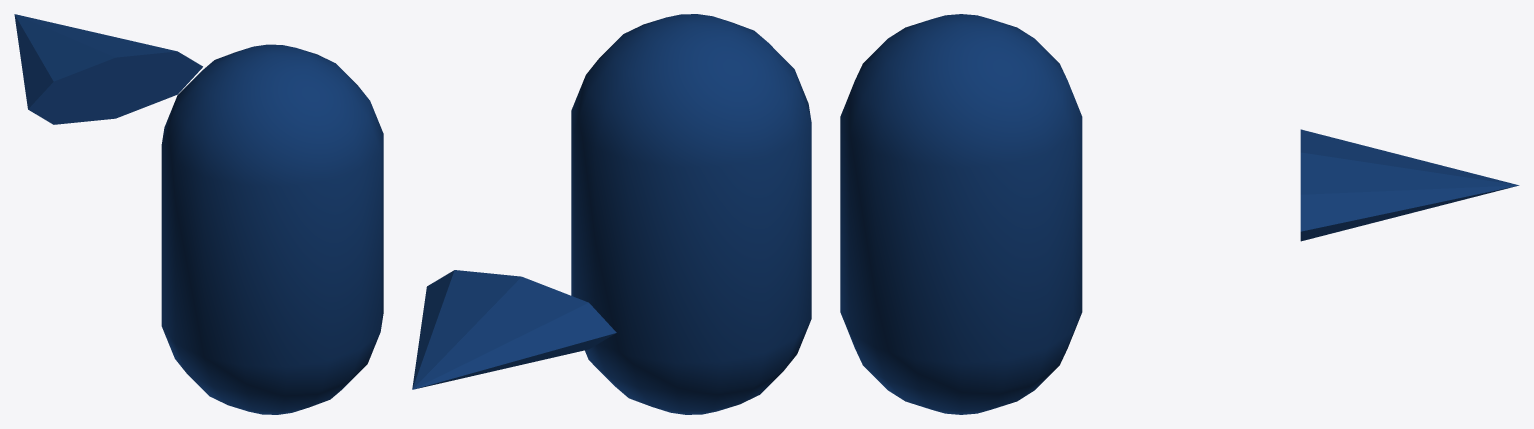
File: player2.glb
3 views of the same model, side by side, from view 1: azimuth 30°, elevation 25°; view 2: azimuth 150°, elevation 25°; view 3: azimuth 270°, elevation 25° (orthographic). The views are drawn at different scales.
Parts seen in each view (by area): view 1: Sphere, Cone; view 2: Sphere, Cone; view 3: Sphere, Cone.
Boxes of the visible parts, <box> form: Sphere: <box>161,44,383,414</box>; Cone: <box>14,14,202,124</box>; Sphere: <box>571,14,811,414</box>; Cone: <box>412,270,616,389</box>; Sphere: <box>840,14,1082,414</box>; Cone: <box>1300,129,1519,241</box>.
Bounding box in the file's own units: 0.4004 × 0.6909 × 1.12.
